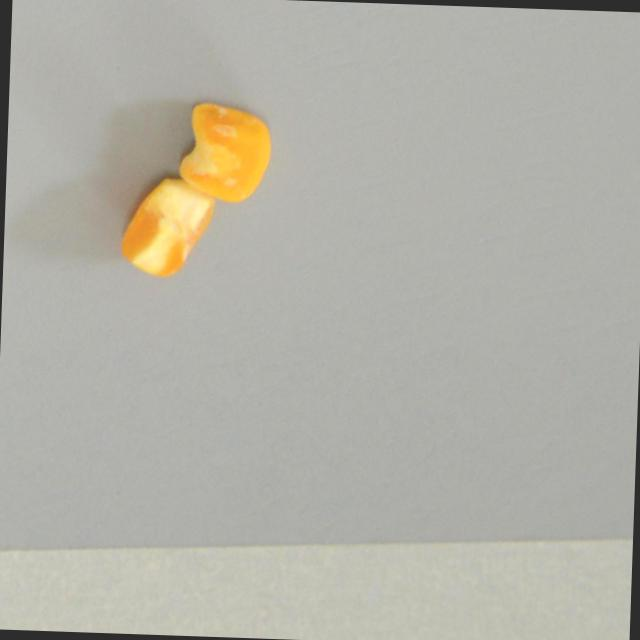pelicula: (175, 98, 272, 203), (119, 177, 213, 278)
